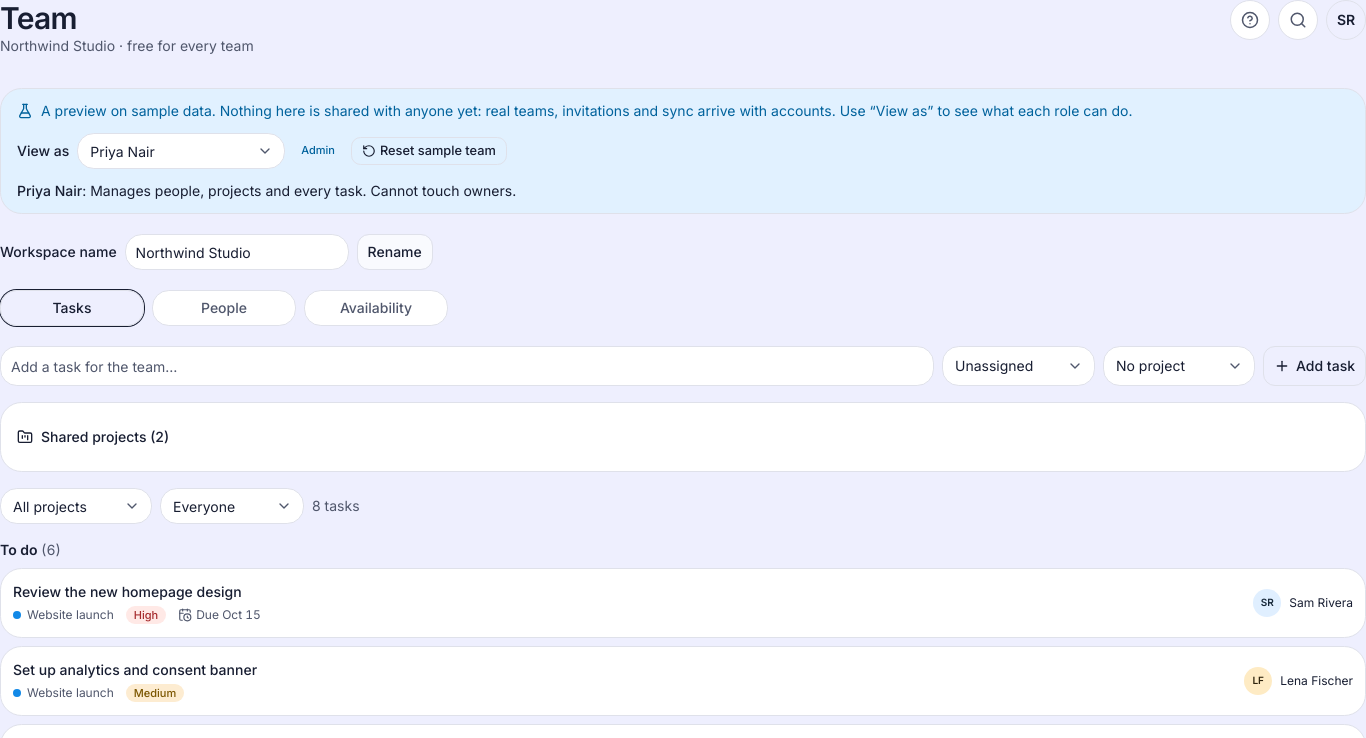
Test: TeamScreen › People tab: an admin cannot change the owner, and the last-owner rule holds
Click the radio button labelled "People" at (224, 308), box [152,290,296,326]
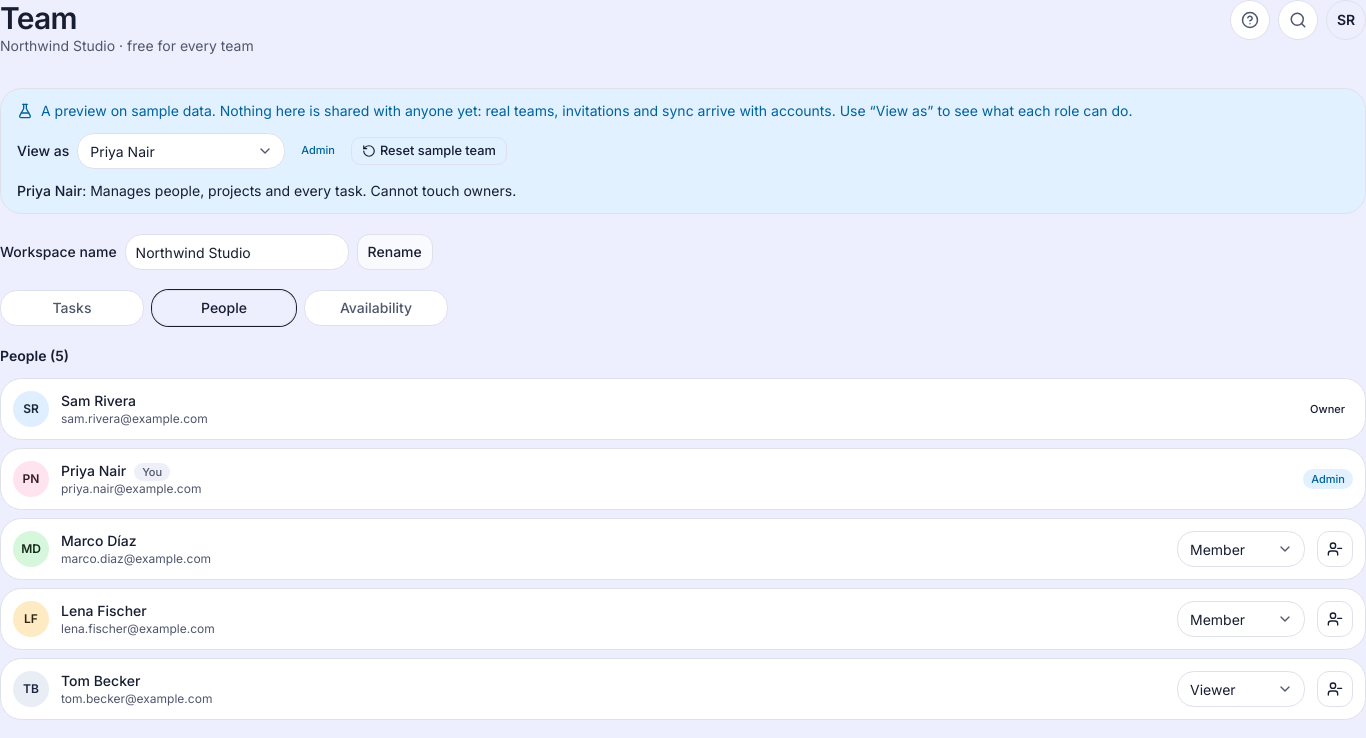
Result: the dropdown named "Role of Marco Díaz" is shown at [1177,531,1305,567]
